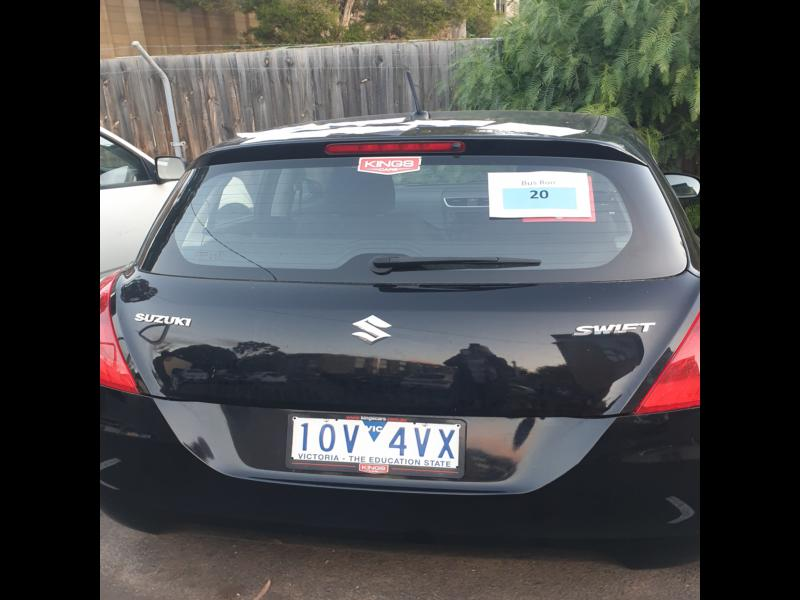BusRun: (503, 185, 579, 213)
PlateNo: (289, 415, 462, 474)
